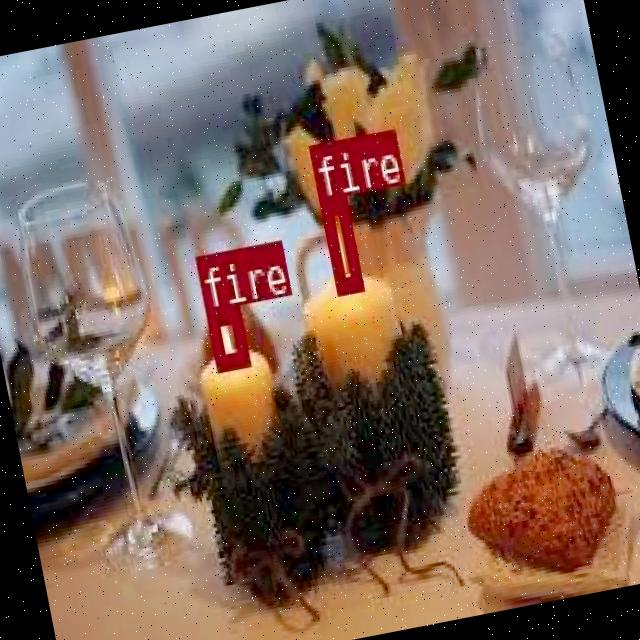fire: (319, 195, 362, 292), (205, 302, 248, 369)
